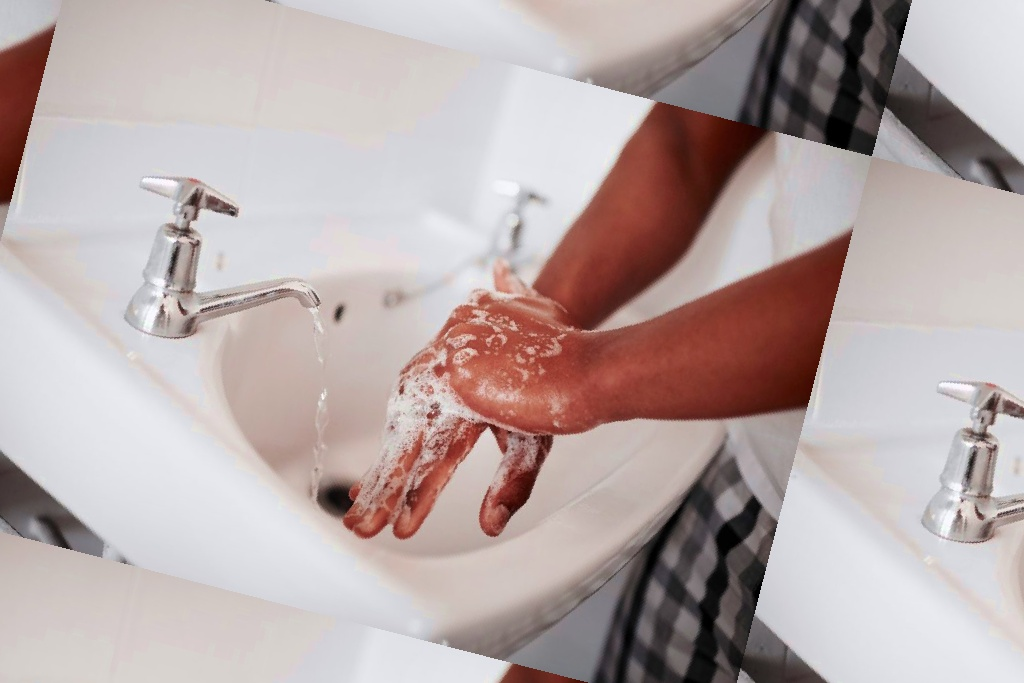washing hand: (61, 53, 689, 608)
